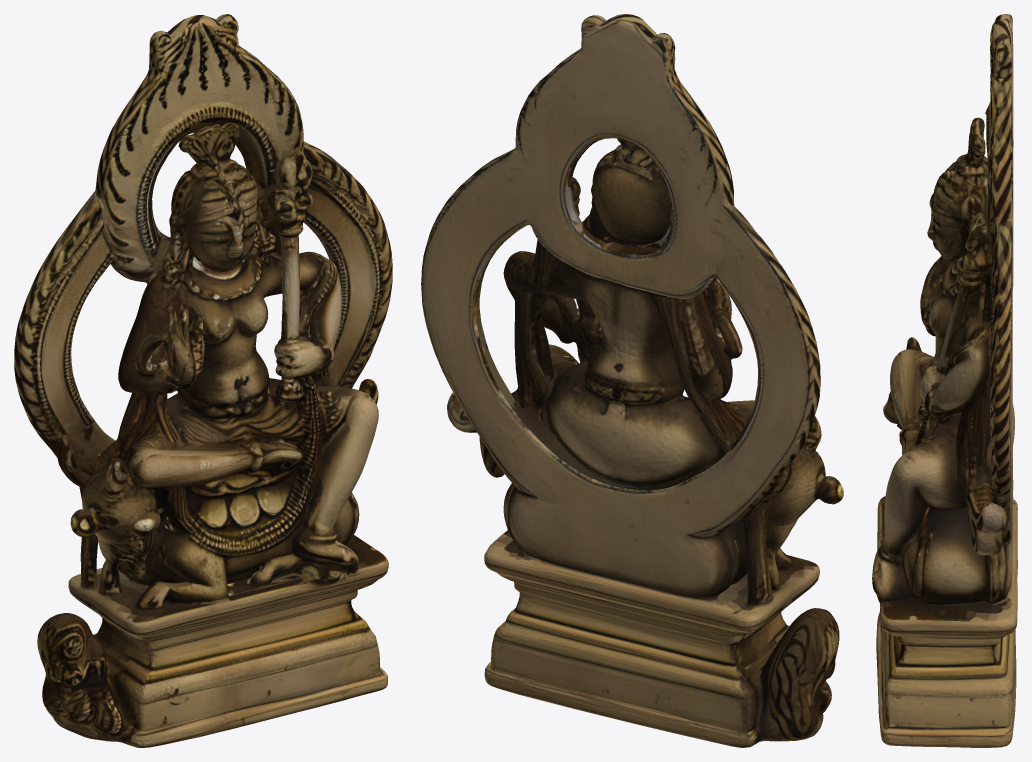
3 views of the same model, side by side, from view 1: azimuth 30°, elevation 25°; view 2: azimuth 150°, elevation 25°; view 3: azimuth 270°, elevation 25° (orthographic). The views are drawn at different scales.
Parts seen in each view (by area): view 1: textured_mesh; view 2: textured_mesh; view 3: textured_mesh.
Part boxes in pixels (x1,y1,x2,y2): textured_mesh: [14, 14, 392, 747]; textured_mesh: [421, 14, 843, 747]; textured_mesh: [872, 14, 1017, 747].
Bounding box in the file's own units: 1.18 × 1.99 × 0.3979.
1 material, 1 textured.
